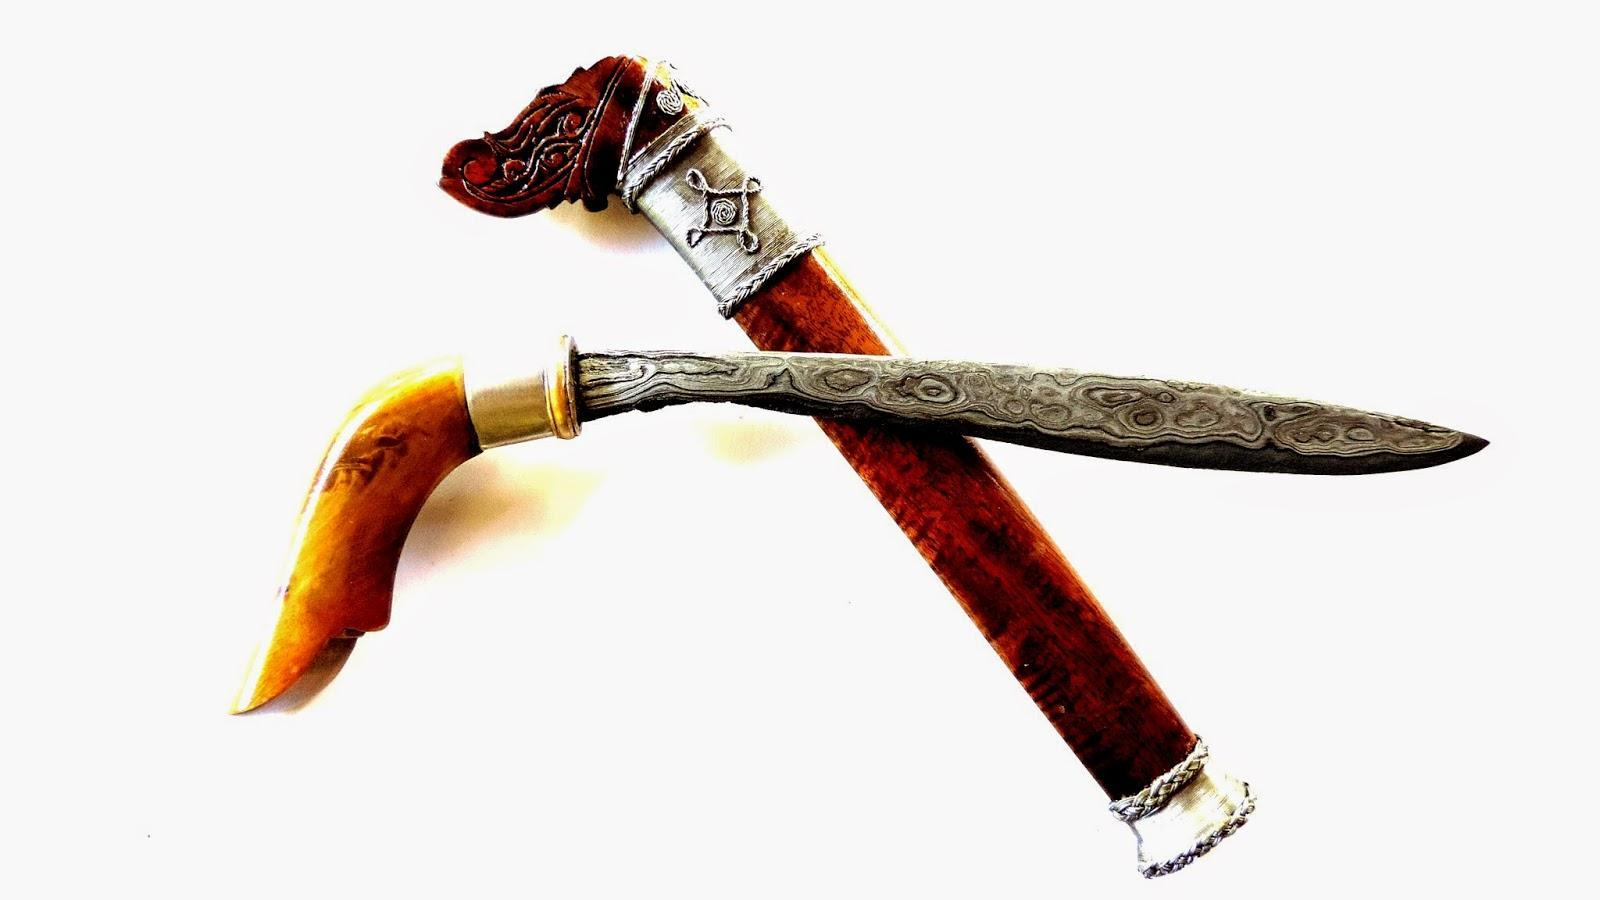facao: (465, 335, 1487, 474)
